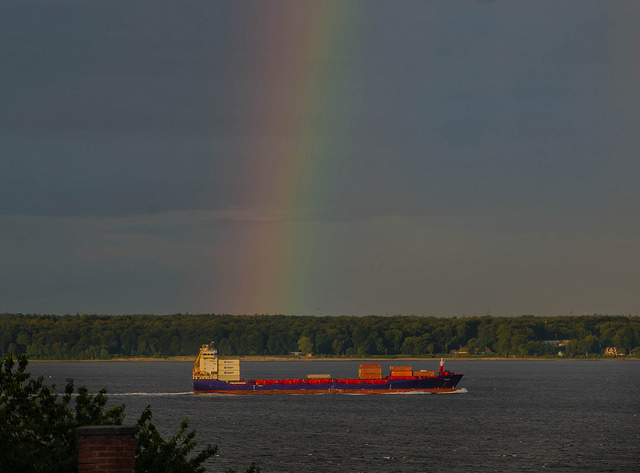container_ship: (187, 341, 460, 398)
